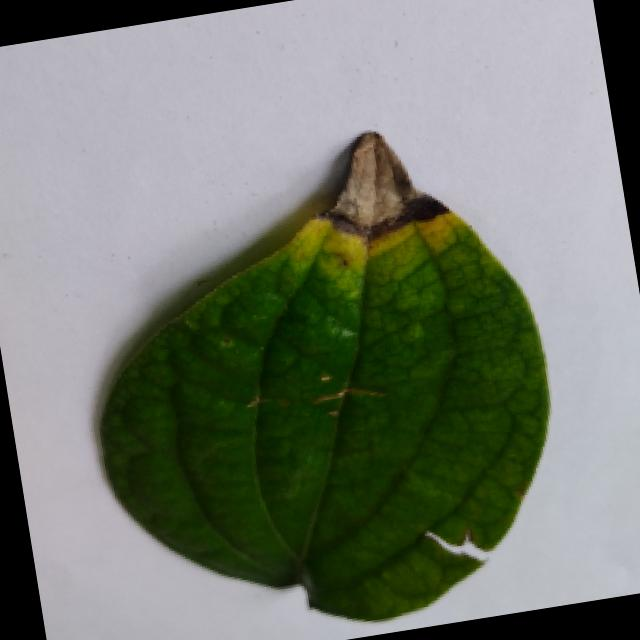footrot: (50, 113, 583, 640)
